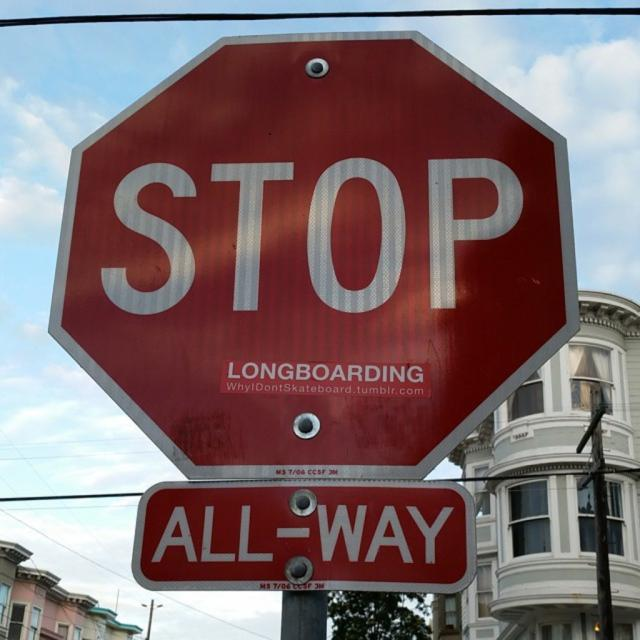Stop-sign: (46, 29, 582, 479)
